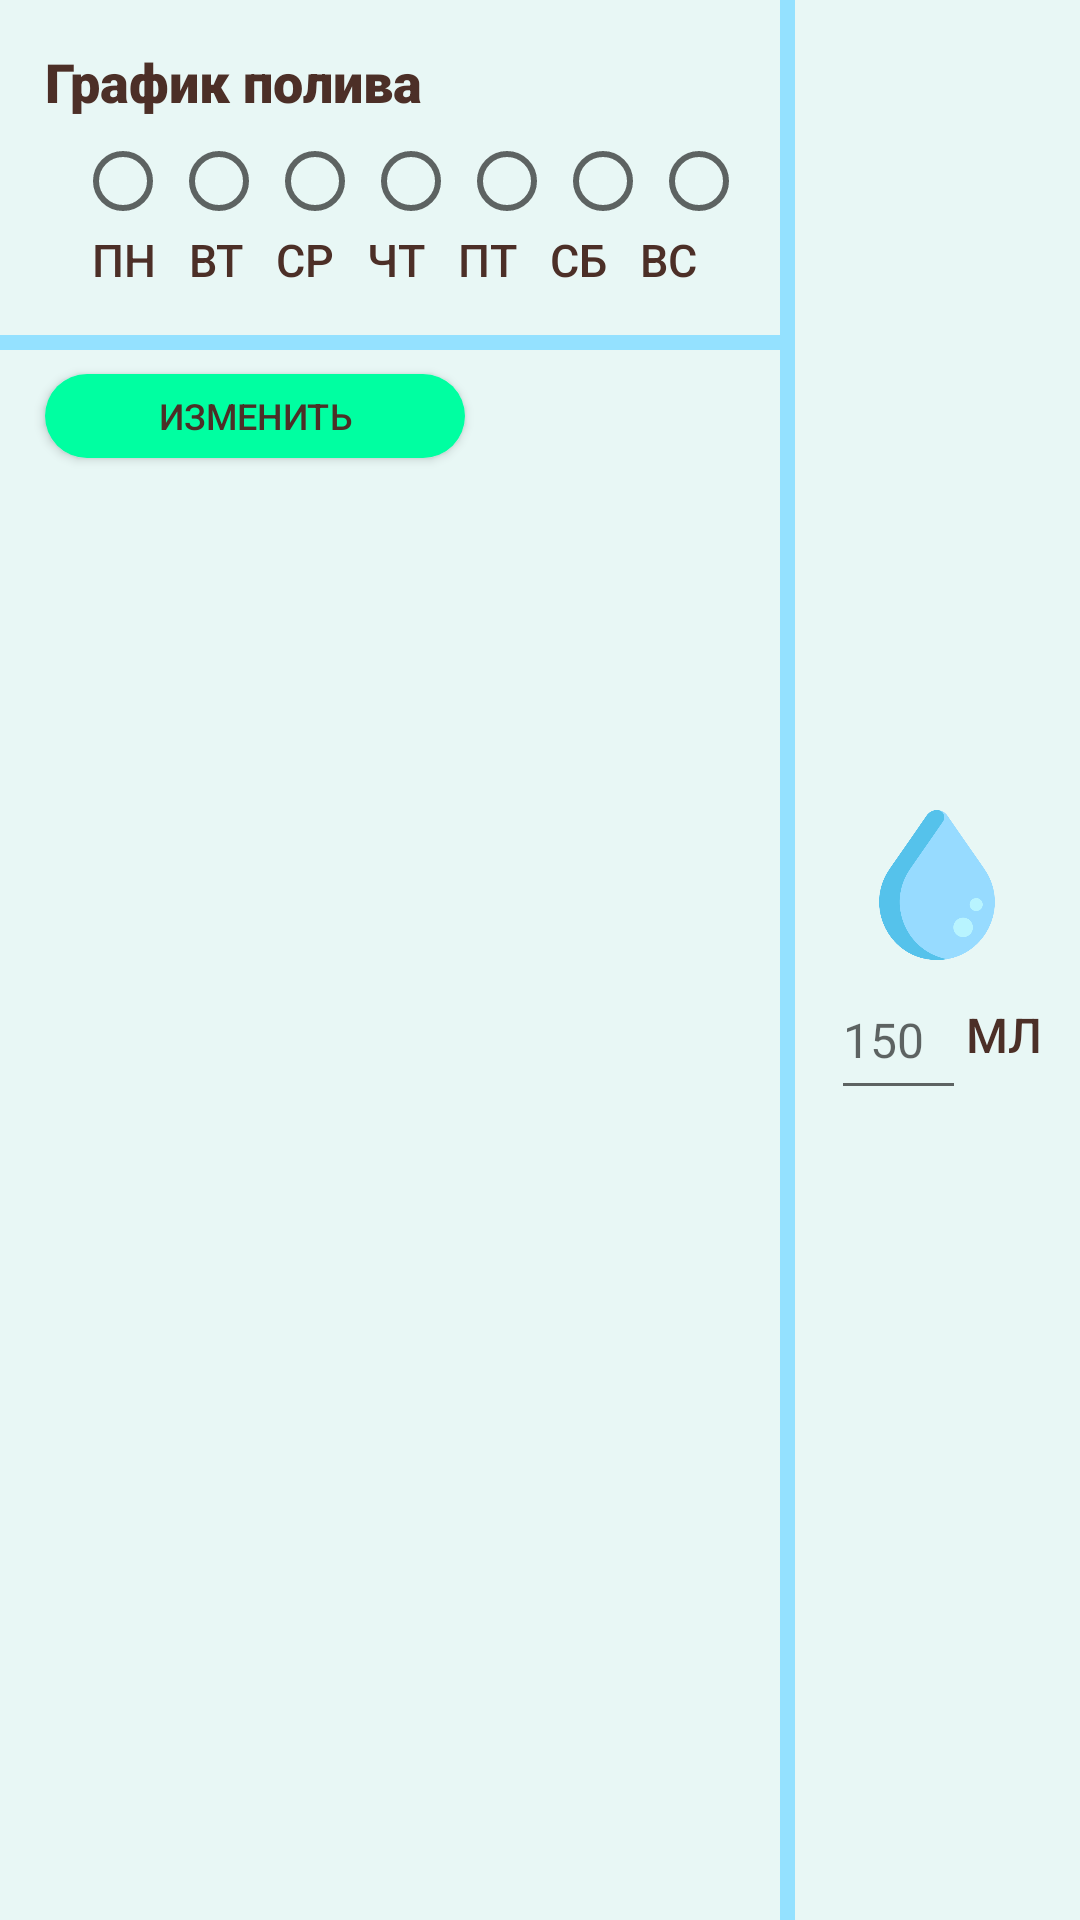

Screen size 1080x1920. Icon name, then its box in pixels as detection(x1, y1, x2, y2):
drop: detection(879, 810, 995, 960)
